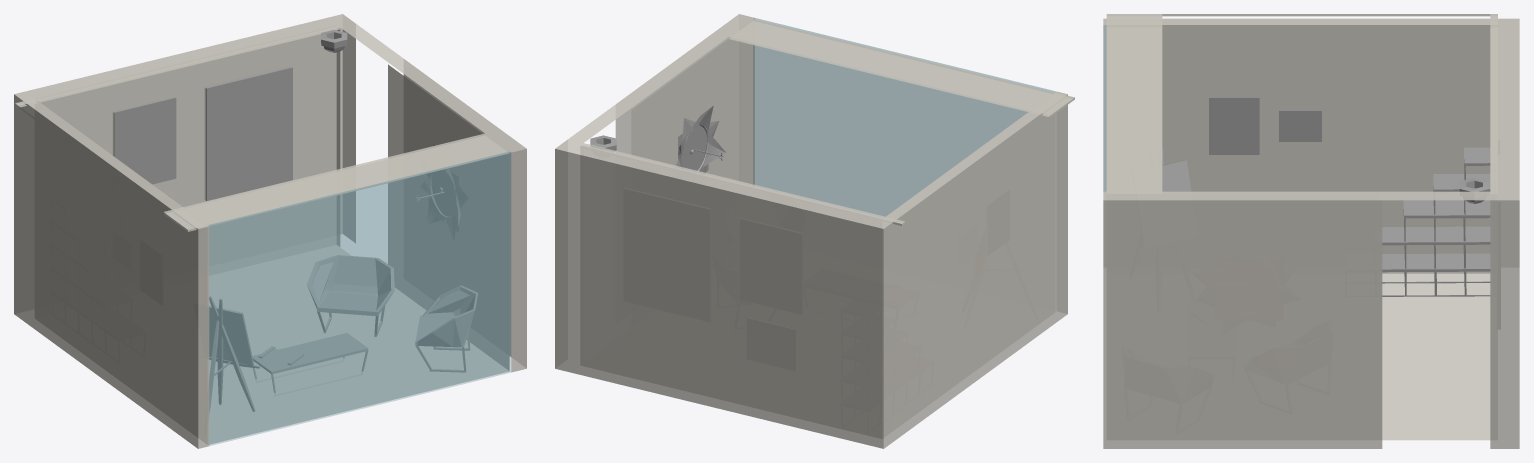
The model's file is NIL'S ROOM.fbx.
The picture shows the model from 3 angles, left to right: view 1: azimuth 30°, elevation 25°; view 2: azimuth 150°, elevation 25°; view 3: azimuth 270°, elevation 25°; orthographic projection. The views are drawn at different scales.
Visible parts, largest first — view 1: pPlane12, pCube71, pCube67, pCube72, pCube66, pCube68, pCube65, pTorus9, pCube69, pSphere2; view 2: pPlane12, pCube71, pCube72, pCube73, pTorus9, pCube69; view 3: pPlane12, pCube29, pCube69, pCube70, pCube68, pSphere2, pCube71.
Boxes of the visible parts, x1,y1,x2,y2 form: pPlane12: (14, 14, 526, 448); pCube71: (205, 66, 292, 200); pCube67: (307, 255, 394, 336); pCube72: (113, 97, 176, 184); pCube66: (415, 285, 477, 372); pCube68: (209, 296, 259, 413); pCube65: (252, 333, 367, 392); pTorus9: (415, 144, 468, 240); pCube69: (140, 240, 161, 304); pSphere2: (321, 30, 347, 52); pPlane12: (555, 14, 1074, 448); pCube71: (624, 188, 710, 321); pCube72: (740, 219, 802, 313); pCube73: (747, 318, 796, 370); pTorus9: (676, 106, 726, 173); pCube69: (988, 190, 1009, 254); pPlane12: (1103, 14, 1519, 448); pCube29: (1382, 147, 1490, 296); pCube69: (1209, 97, 1259, 154); pCube70: (1279, 110, 1321, 141); pCube68: (1162, 148, 1191, 193); pSphere2: (1459, 178, 1489, 203); pCube71: (1498, 155, 1500, 328).
Size of the model in its own units: 41.58 by 26.35 by 39.31.
